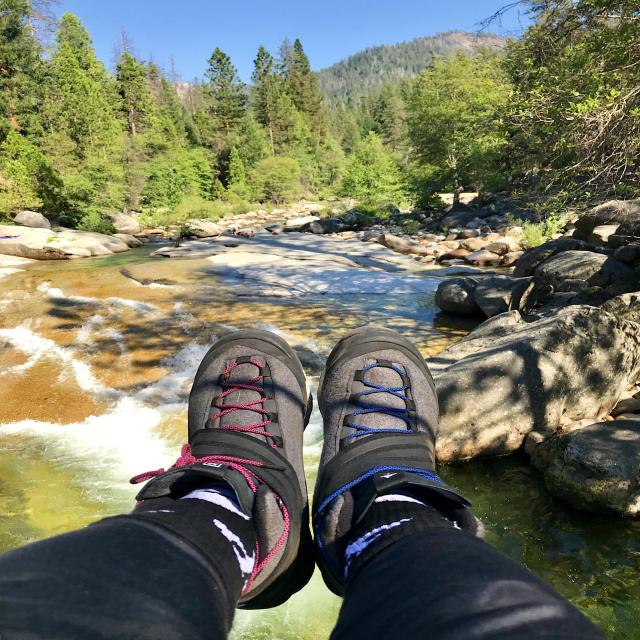shoe: (320, 267, 524, 628), (147, 287, 312, 624)
